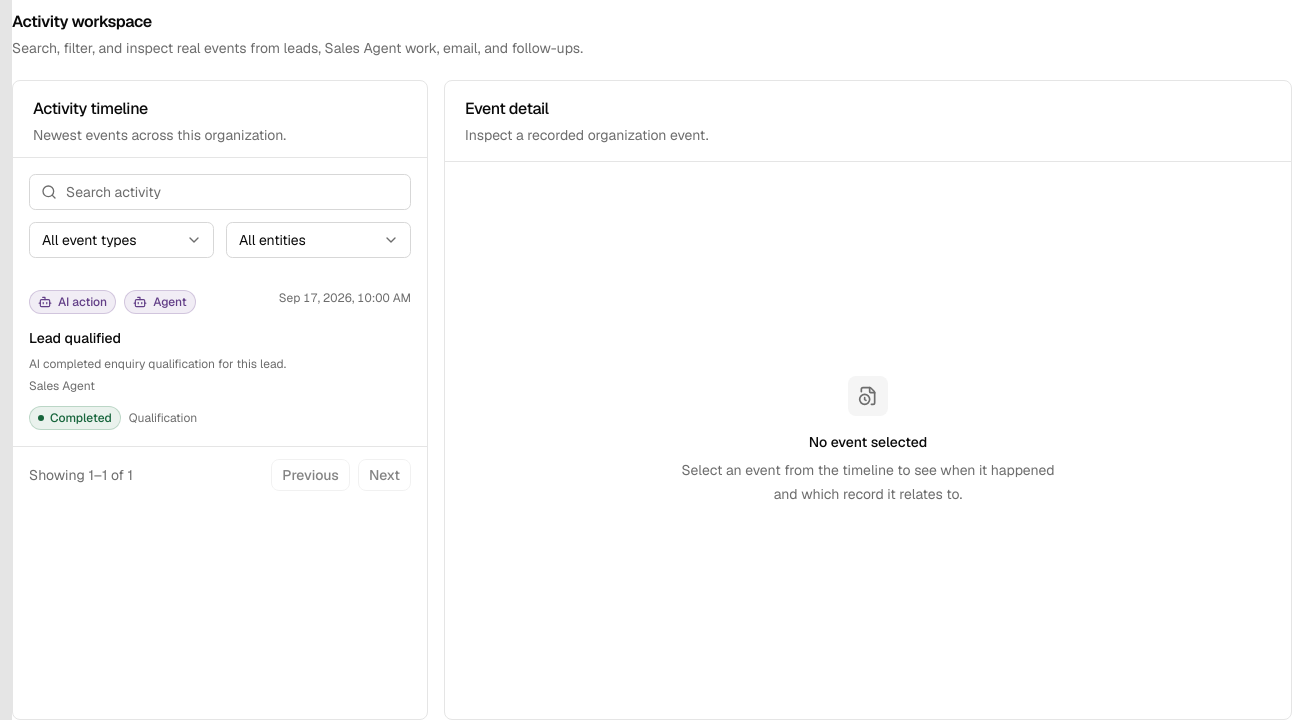
Test: Activity page › clears selected detail when filters replace the result set
(page scrolled)
Click the button "Lead qualified" at coordinates (220, 360), box [13,274,427,446]
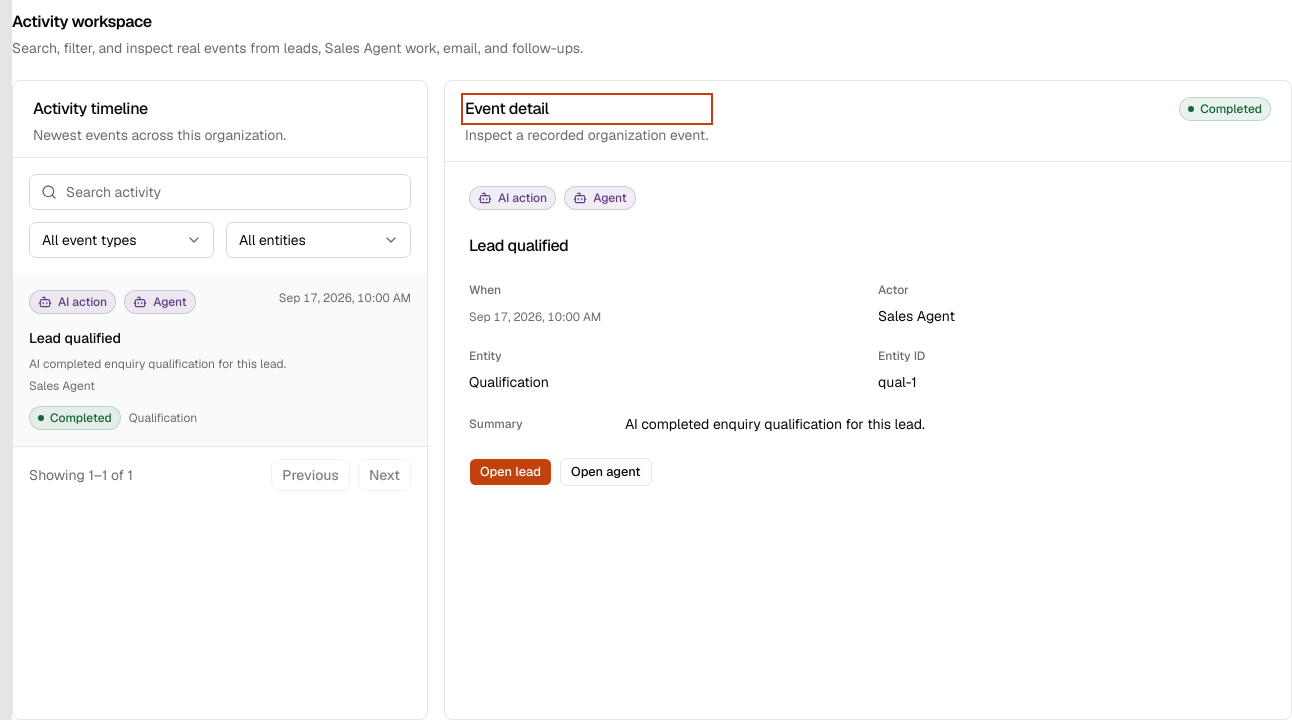
Expected: the link "Open lead" is shown, [469,458,552,486]
Type "missing" into the search field labelled "Search activity" at coordinates (220, 192), box [29,174,411,210]
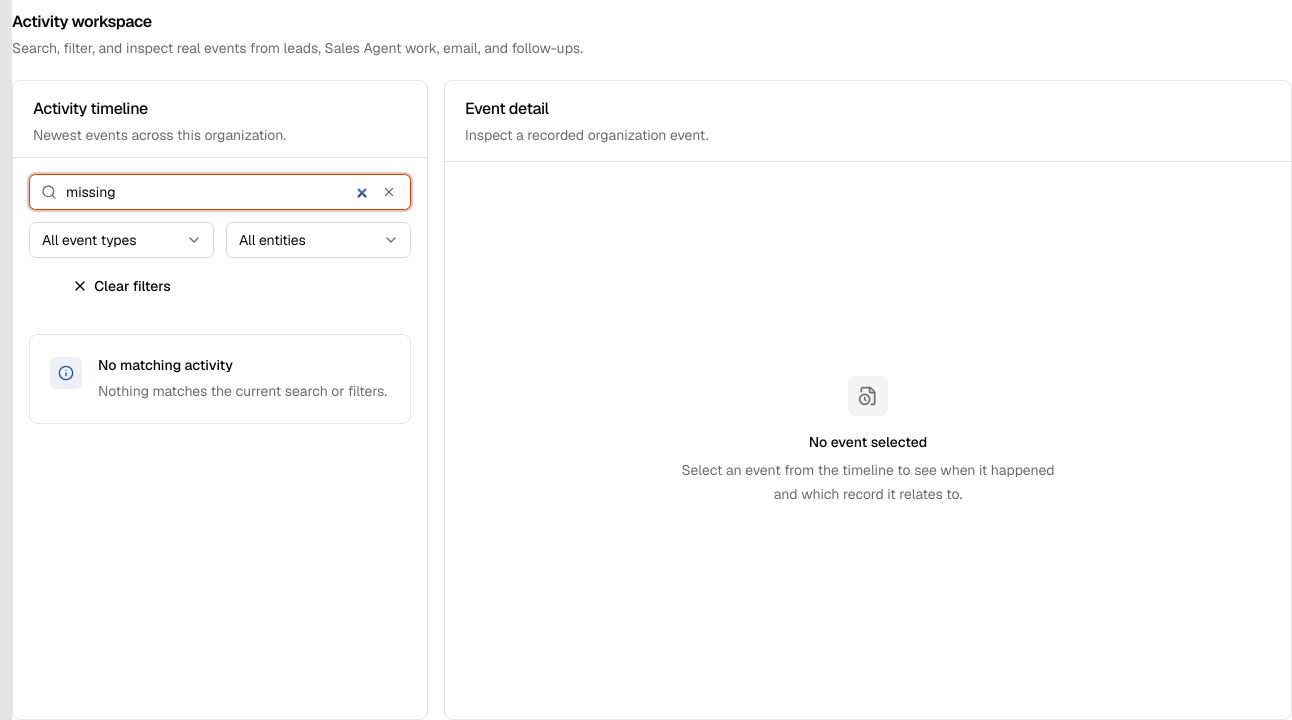
Expected: the link "Open lead" is gone
Expected: the heading "No matching activity" is shown, [98,356,233,374]
